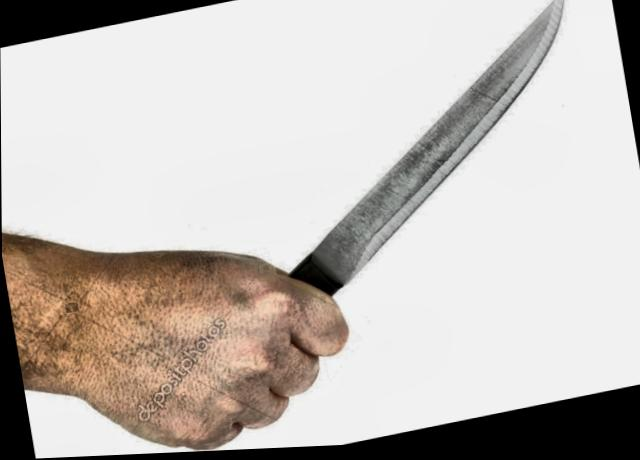knife: (208, 0, 630, 420)
